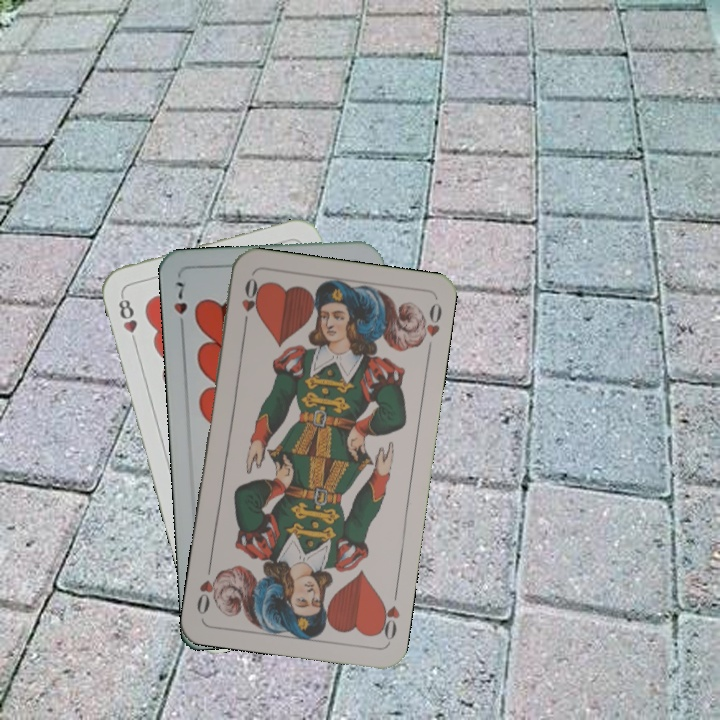H7: (170, 276, 190, 334)
H8: (114, 291, 140, 349)
HO: (373, 585, 403, 643), (238, 273, 261, 331)
